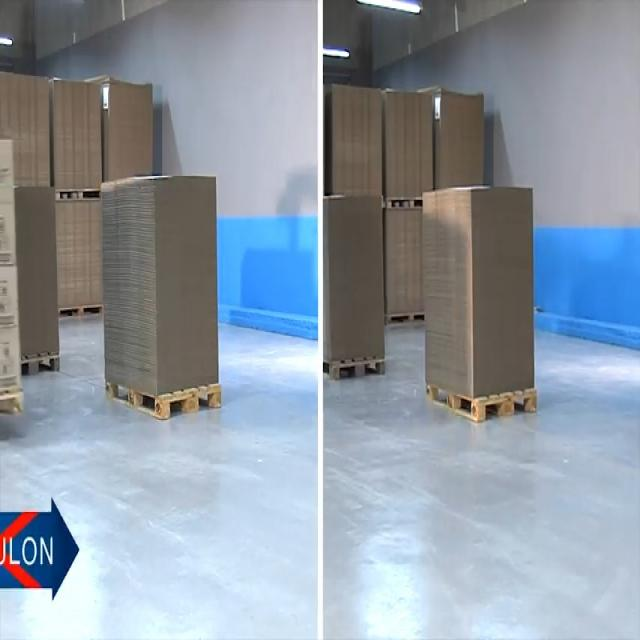Palette: (423, 377, 541, 423), (103, 380, 225, 419), (324, 353, 390, 388), (17, 350, 71, 386), (52, 181, 103, 208), (57, 300, 105, 323), (384, 305, 428, 327), (383, 196, 428, 212), (0, 391, 24, 413)
